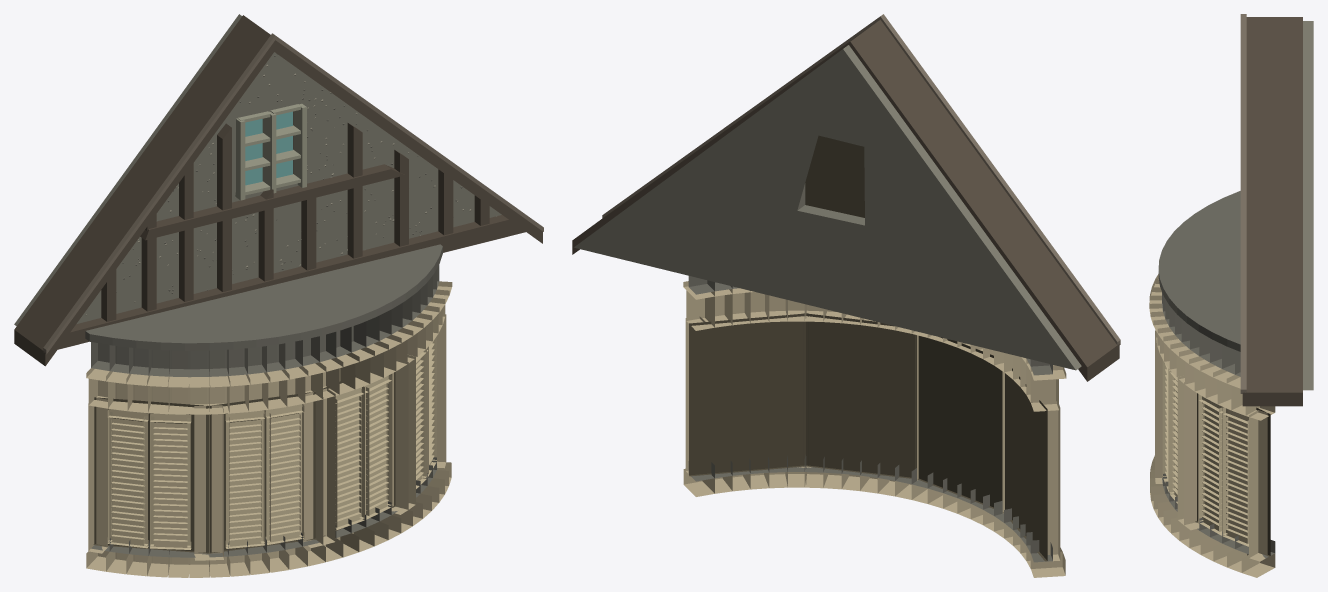
File: jingan-yuyuan-541-no2-gabled-bow-window-raw.glb
3 views of the same model, side by side, from view 1: azimuth 30°, elevation 25°; view 2: azimuth 150°, elevation 25°; view 3: azimuth 270°, elevation 25° (orthographic). The views are drawn at different scales.
Visible parts, largest first — view 1: 愚园路541弄2号木构山墙与弧窗百叶; view 2: 愚园路541弄2号木构山墙与弧窗百叶; view 3: 愚园路541弄2号木构山墙与弧窗百叶.
Part boxes in pixels (x1,y1,x2,y2): 愚园路541弄2号木构山墙与弧窗百叶: (14, 14, 543, 577); 愚园路541弄2号木构山墙与弧窗百叶: (572, 14, 1120, 577); 愚园路541弄2号木构山墙与弧窗百叶: (1149, 14, 1313, 577).
Bounding box in the file's own units: 4.15 × 3.94 × 1.23.
